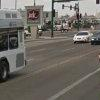Bus: (2, 3, 27, 82)
